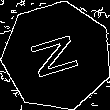N_E: (26, 29, 87, 83)
